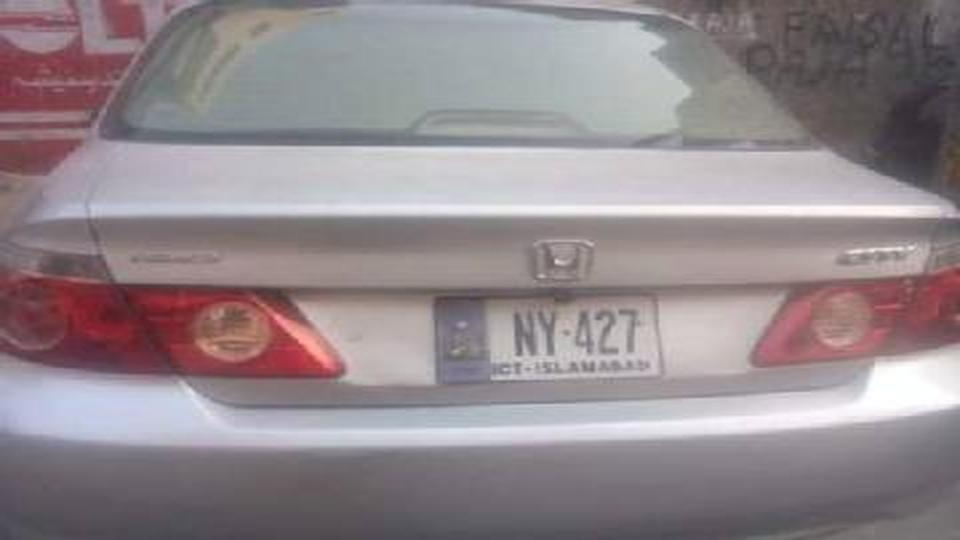NumberPlate: (423, 295, 681, 385)
